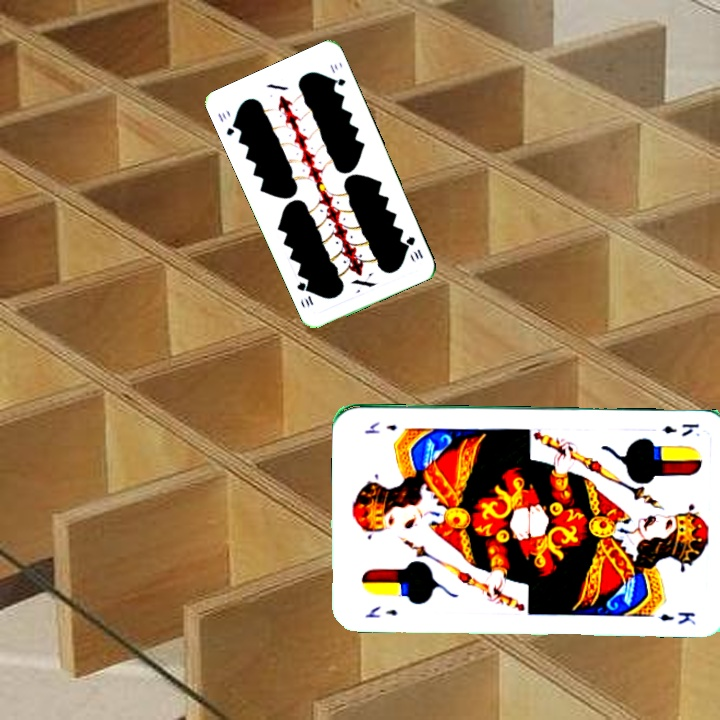EK: (659, 419, 701, 439), (361, 602, 400, 620)
G10: (213, 108, 240, 138), (402, 232, 426, 261)
